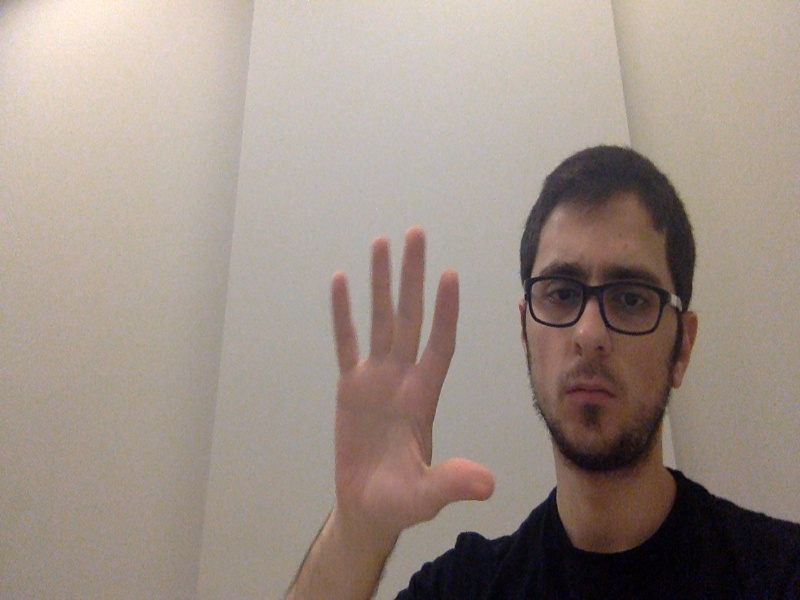5-hand: (320, 229, 498, 533)
